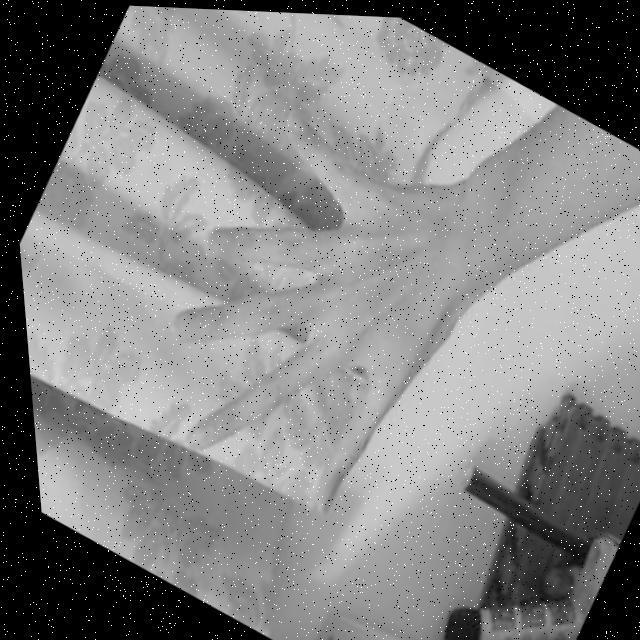no-gloves: (94, 84, 521, 544)
